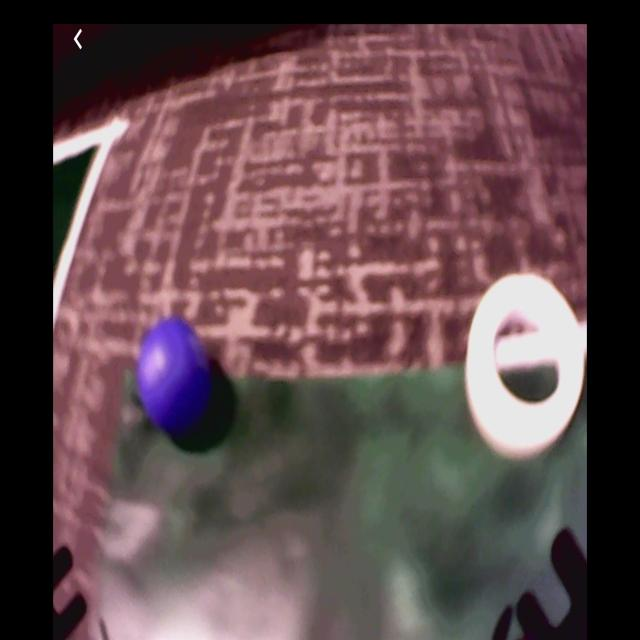ball: (140, 319, 209, 432)
